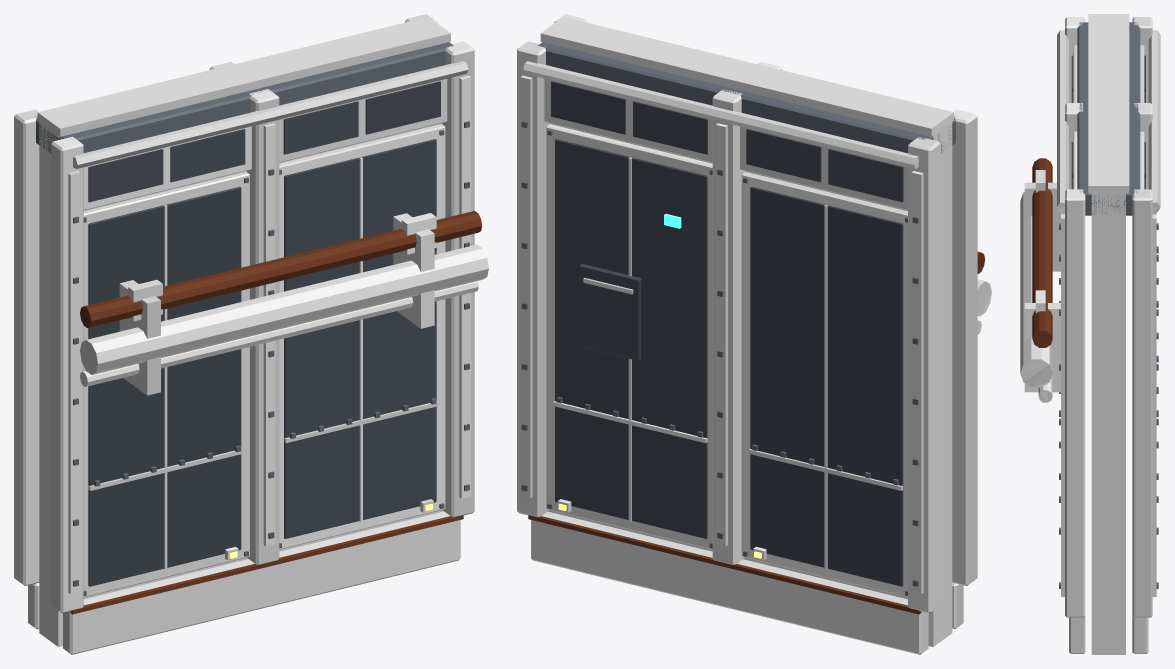
The model's file is Wall_Panel_4m_Pipes.fbx.
3 views of the same model, side by side, from view 1: azimuth 30°, elevation 25°; view 2: azimuth 150°, elevation 25°; view 3: azimuth 270°, elevation 25° (orthographic). The views are drawn at different scales.
Parts seen in each view (by area): view 1: Wall_Panel_4m_Pipes; view 2: Wall_Panel_4m_Pipes; view 3: Wall_Panel_4m_Pipes.
Boxes of the visible parts, x1,y1,x2,y2 form: Wall_Panel_4m_Pipes: [14, 14, 488, 654]; Wall_Panel_4m_Pipes: [517, 14, 991, 654]; Wall_Panel_4m_Pipes: [1020, 14, 1160, 654].
Size of the model in its own units: 4.24 by 5.08 by 1.38.
